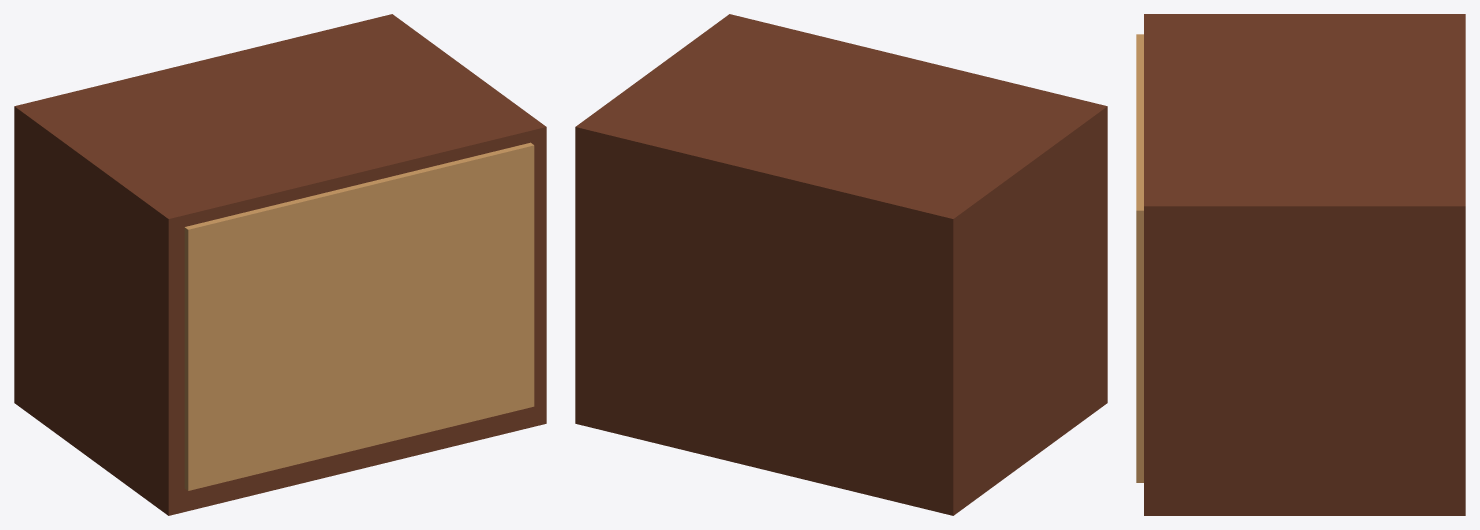
Rendered from plan_chest.glb.
3 views of the same model, side by side, from view 1: azimuth 30°, elevation 25°; view 2: azimuth 150°, elevation 25°; view 3: azimuth 270°, elevation 25° (orthographic). The views are drawn at different scales.
Bounding box in the file's own units: 1.33 × 0.998 × 0.9625.
1 material, 1 textured.
